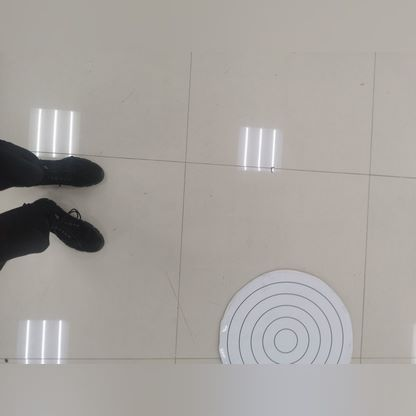circle: (221, 267, 356, 374)
